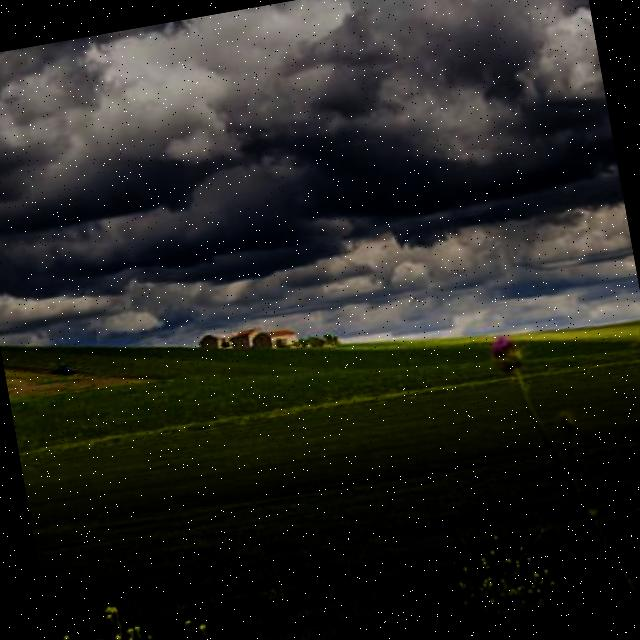Ns: (1, 1, 631, 347)
